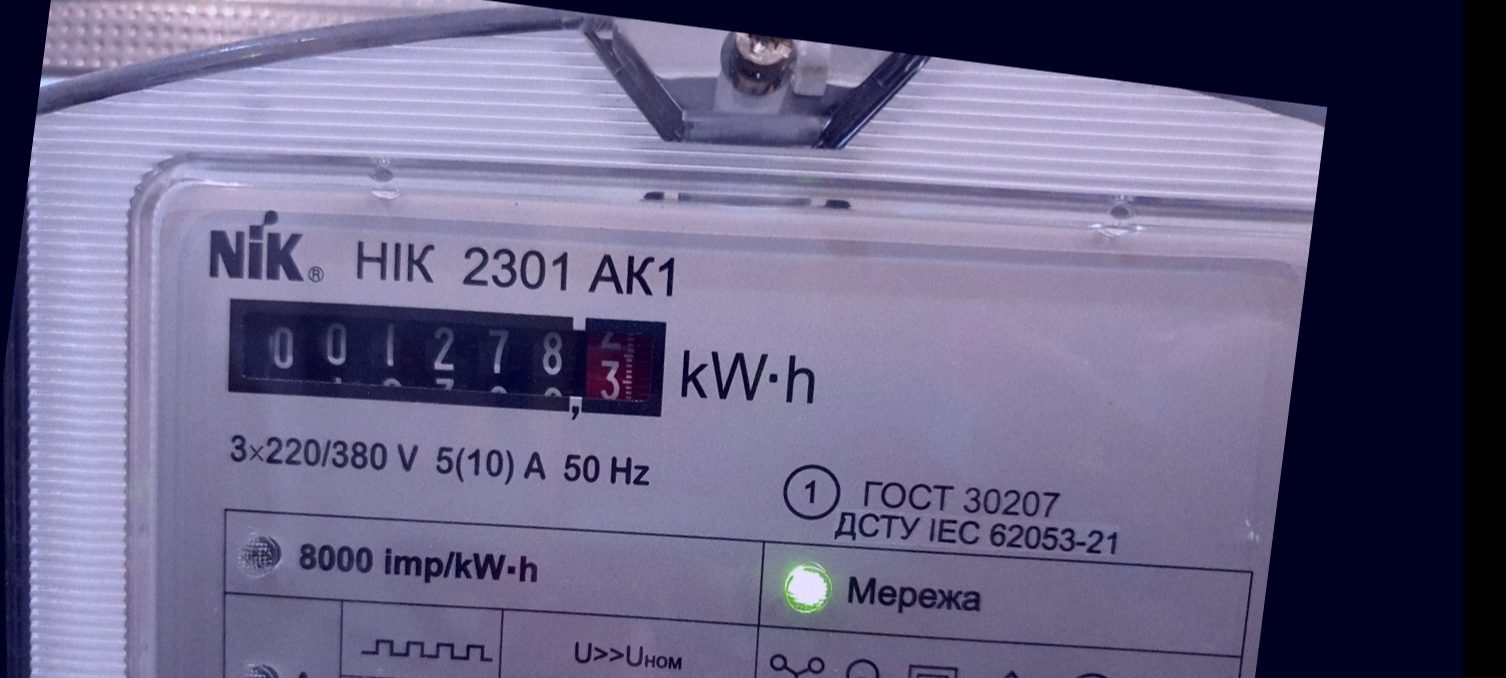0: (266, 321, 300, 373), (319, 319, 350, 368)
1: (378, 320, 401, 370)
2: (426, 323, 459, 373), (595, 329, 624, 353)
3: (593, 354, 624, 401)
7: (481, 325, 509, 376)
8: (535, 328, 566, 378)
screen: (198, 255, 689, 457)
